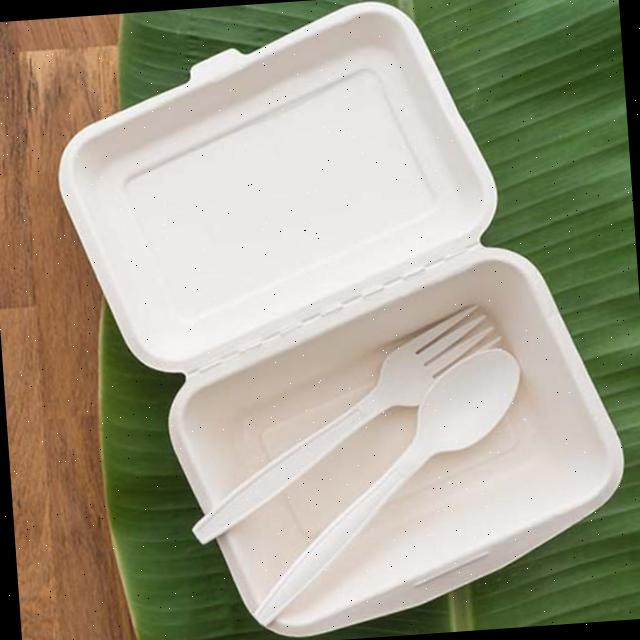styrofoam: (45, 0, 636, 640)
